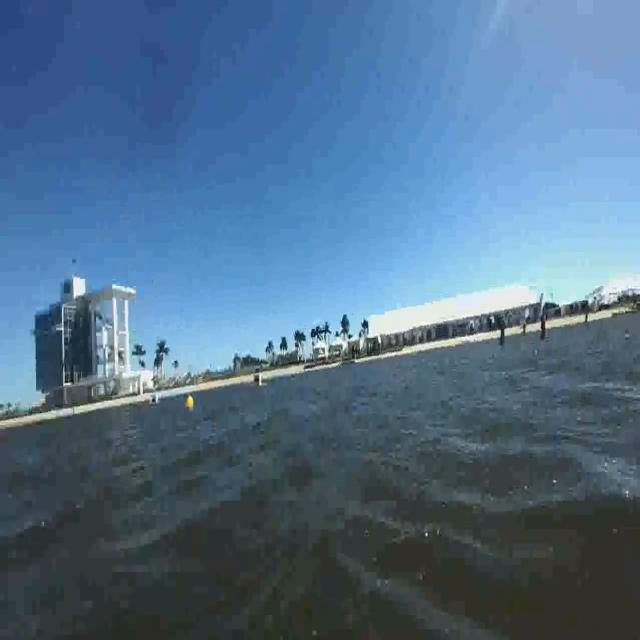yellow-buoy: (186, 393, 194, 409)
